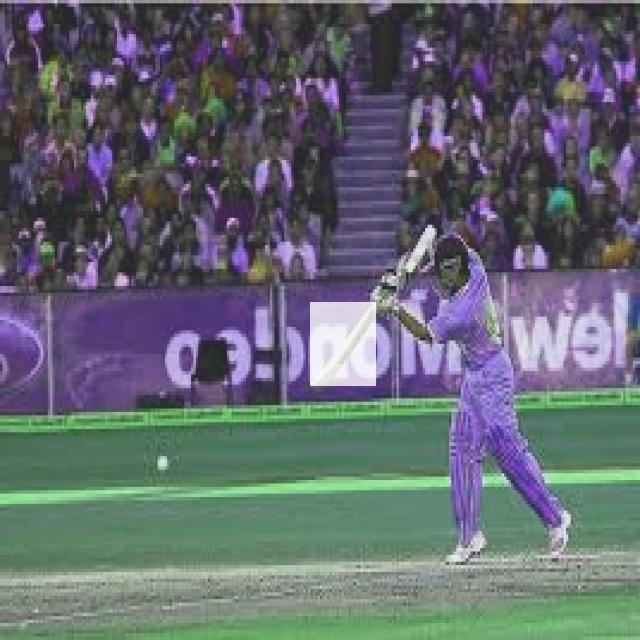bat: (309, 300, 376, 389)
toe: (306, 371, 340, 388)
